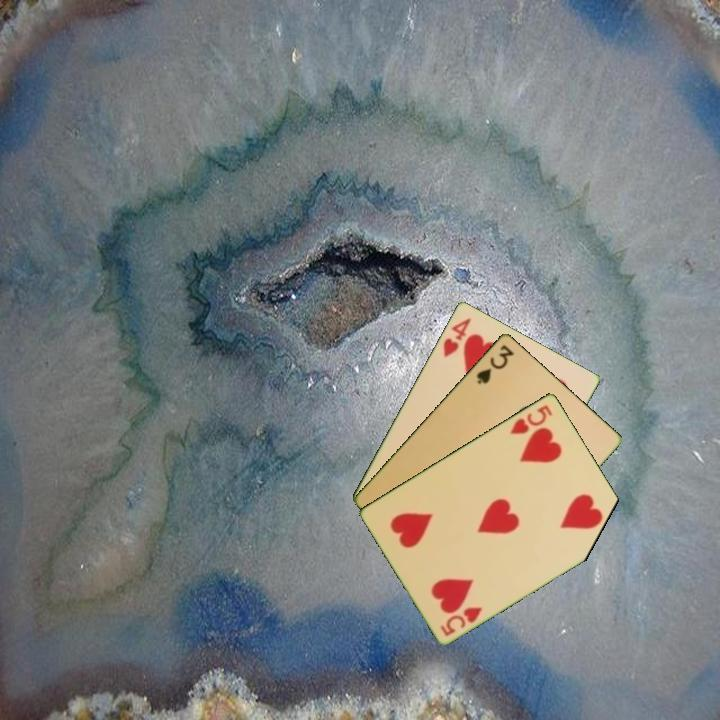3s: (473, 340, 517, 387)
4h: (439, 313, 474, 360)
5h: (507, 401, 555, 437), (437, 603, 485, 639)
